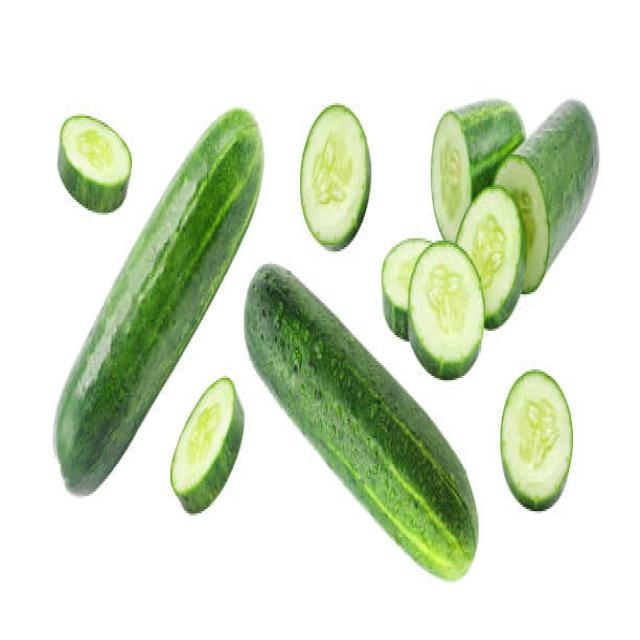cucumber: (51, 108, 264, 496), (243, 264, 479, 581), (430, 94, 602, 295)
